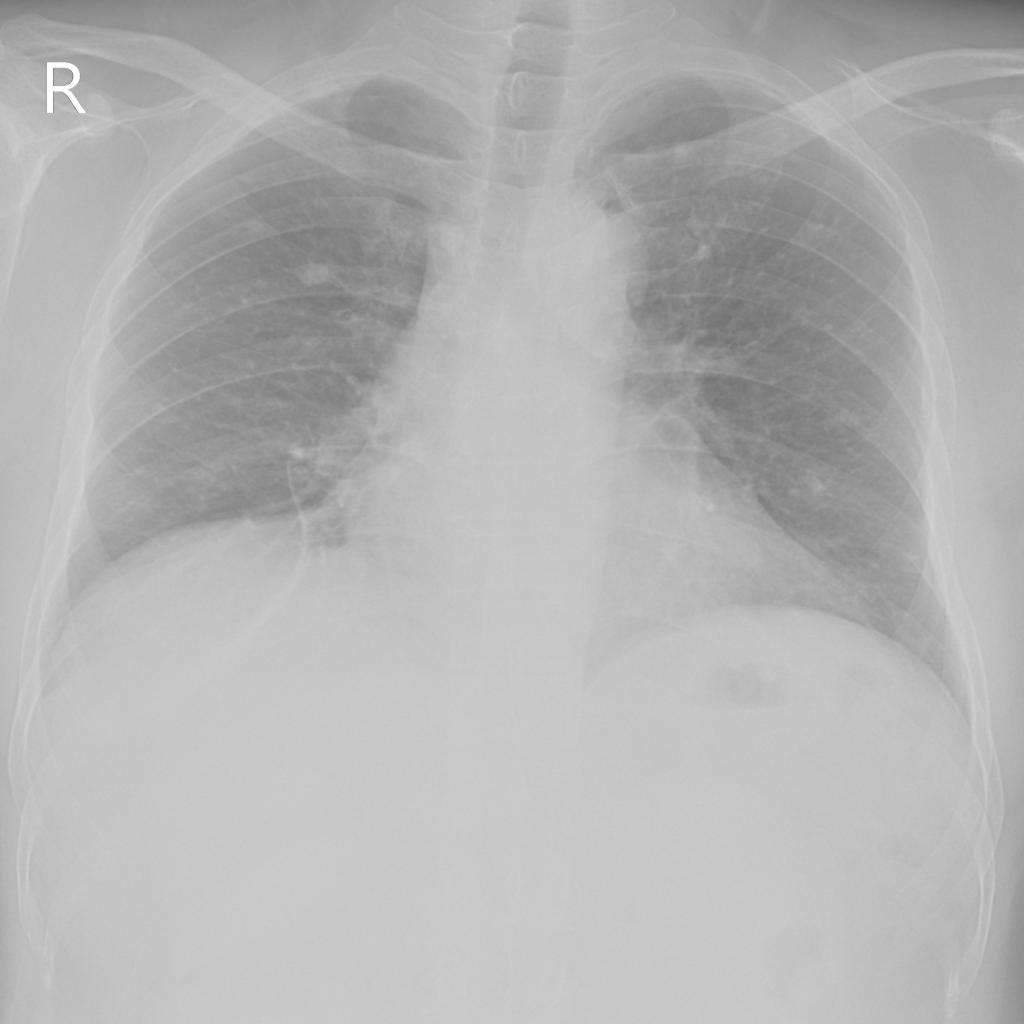Nodule: (300, 257, 329, 289)
